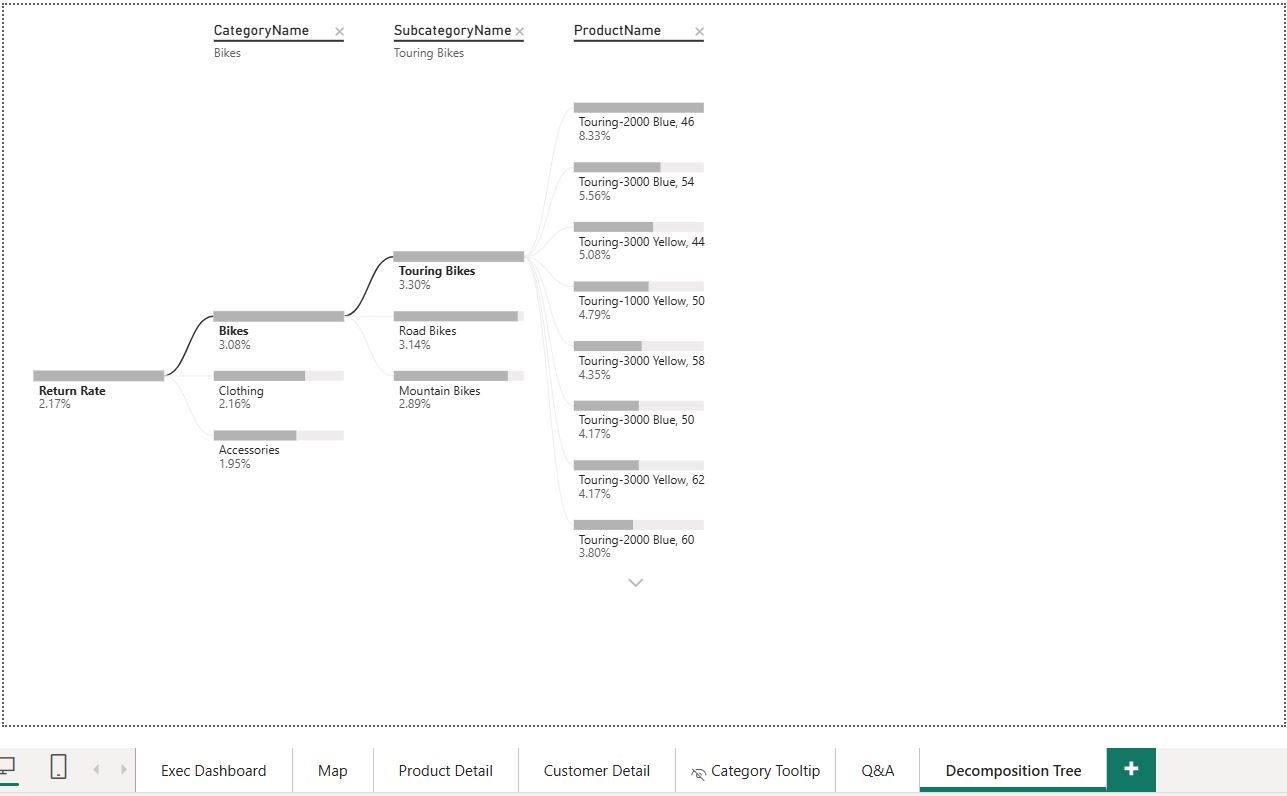

What the dashboard file says about the page in this screenshot:
{"tool":"powerbi","page":{"name":"Decomposition Tree","canvas":[1280,720],"ordinal":6},"visuals":[{"type":"decompositionTreeVisual","fields":{"Analyze":["Mesure Table.Return Rate"],"ExplainBy":["Product Categories Lookup.CategoryName","Product Subcategories Lookup.SubcategoryName","Product Lookup.ProductName"]},"box":[0,0,1280,720],"z":0}]}

Visuals, with their boxes on the page's 1280x720 design canvas (x1, y1, x2, y2). These are canvas units, not pixel positions in the 1287x796 screenshot, which may show the page scaled, cropped or inside an application window:
decompositionTreeVisual - Mesure Table.Return Rate x Product Categories Lookup.CategoryName: [0, 0, 1280, 720]
